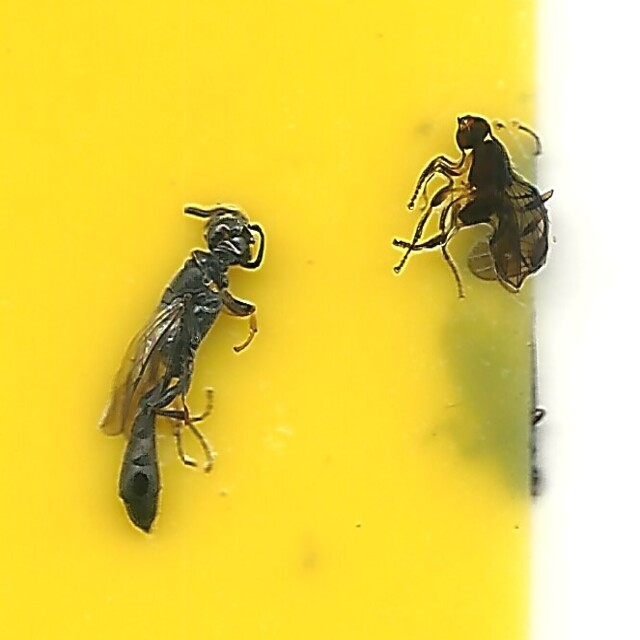Brachycera: (385, 109, 543, 300)
Hymenoptera: (97, 206, 269, 531)
